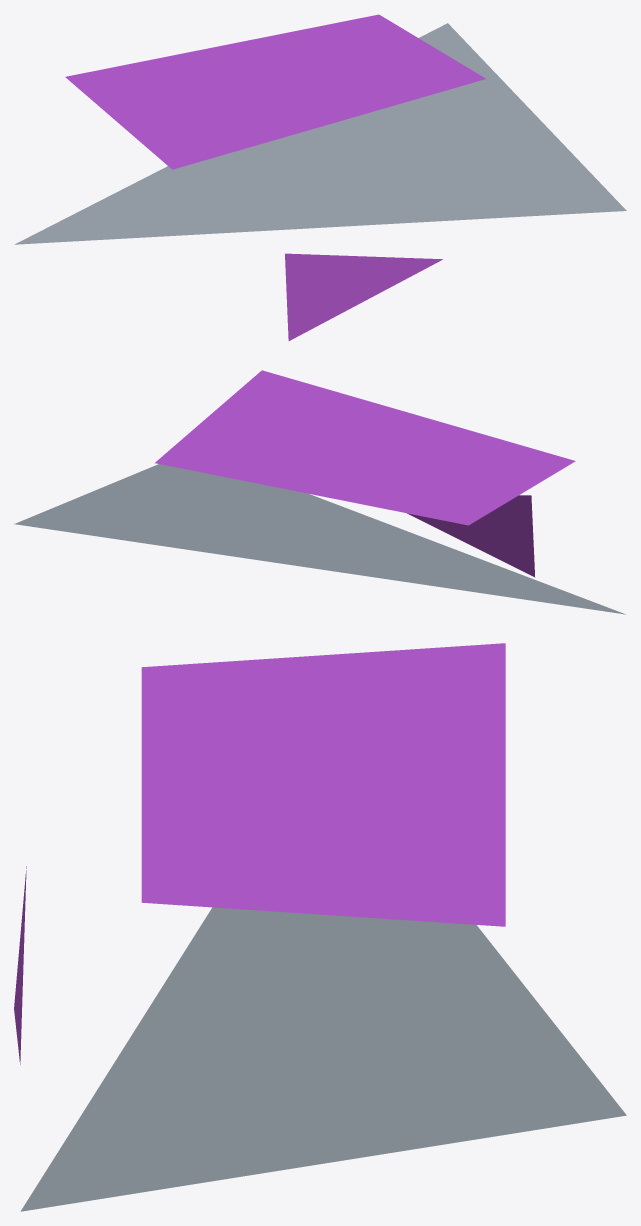
File: CH_TimelineTank_LOD2.glb
3 renders of one model, top to bottom at view 1: azimuth 30°, elevation 25°; view 2: azimuth 150°, elevation 25°; view 3: azimuth 270°, elevation 25°, orthographic. The views are drawn at different scales.
Parts seen in each view (by area): view 1: EntranceGate; view 2: EntranceGate; view 3: EntranceGate.
Boxes of the visible parts, x1=… form: EntranceGate: x1=14, y1=14, x2=626, y2=340; EntranceGate: x1=14, y1=370, x2=625, y2=614; EntranceGate: x1=14, y1=643, x2=626, y2=1211.
Bounding box in the file's own units: 540 × 175 × 323.
